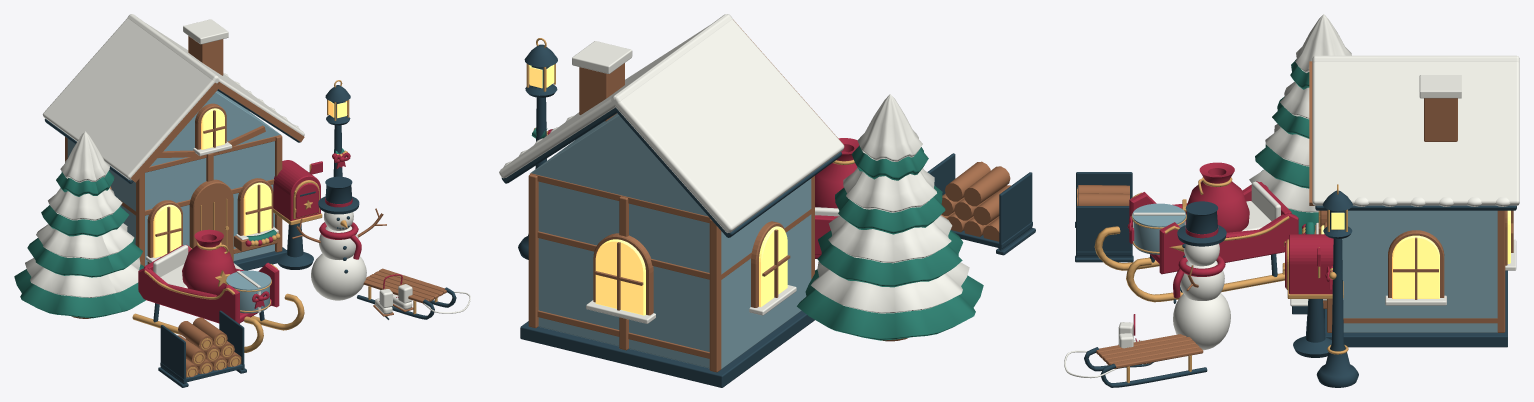
Rendered from storybook-christmas-market-sleigh-delivery-courtyard-3d9f5dd4__19749.glb.
The picture shows the model from 3 angles, left to right: view 1: azimuth 30°, elevation 25°; view 2: azimuth 150°, elevation 25°; view 3: azimuth 270°, elevation 25°; orthographic projection. The views are drawn at different scales.
Parts seen in each view (by area): view 1: 000-timber-chalet/2, 000-timber-chalet/3, 000-timber-chalet/1, 005-snow-laden-spruce/2, 005-snow-laden-spruce/1, 001-royal-delivery-sleigh/2, 004-storybook-snowman/0, 000-timber-chalet/5, 007-stacked-firewood-rack/0, 002-santa-toy-sack/0, 006-letters-to-santa-mailbox/2, 007-stacked-firewood-rack/1 (+13 smaller); view 2: 000-timber-chalet/1, 000-timber-chalet/2, 005-snow-laden-spruce/2, 005-snow-laden-spruce/1, 000-timber-chalet/3, 000-timber-chalet/0, 000-timber-chalet/5, 007-stacked-firewood-rack/1, 007-stacked-firewood-rack/0, 009-ribbon-lantern-post/0, 002-santa-toy-sack/0; view 3: 000-timber-chalet/2, 000-timber-chalet/1, 000-timber-chalet/3, 005-snow-laden-spruce/2, 004-storybook-snowman/0, 000-timber-chalet/0, 001-royal-delivery-sleigh/2, 007-stacked-firewood-rack/0, 009-ribbon-lantern-post/0, 000-timber-chalet/5, 005-snow-laden-spruce/1, 006-letters-to-santa-mailbox/2 (+12 smaller).
Part boxes in pixels (x1=…): 000-timber-chalet/2: x1=42, y1=14, x2=304, y2=270; 000-timber-chalet/3: x1=65, y1=36, x2=304, y2=266; 000-timber-chalet/1: x1=67, y1=90, x2=280, y2=265; 005-snow-laden-spruce/2: x1=25, y1=131, x2=140, y2=297; 005-snow-laden-spruce/1: x1=14, y1=171, x2=145, y2=318; 001-royal-delivery-sleigh/2: x1=138, y1=244, x2=279, y2=323; 004-storybook-snowman/0: x1=311, y1=212, x2=366, y2=300; 000-timber-chalet/5: x1=153, y1=108, x2=271, y2=257; 007-stacked-firewood-rack/0: x1=158, y1=310, x2=246, y2=387; 002-santa-toy-sack/0: x1=182, y1=229, x2=236, y2=294; 006-letters-to-santa-mailbox/2: x1=273, y1=160, x2=322, y2=220; 007-stacked-firewood-rack/1: x1=177, y1=317, x2=241, y2=377; 000-timber-chalet/1: x1=530, y1=113, x2=811, y2=369; 000-timber-chalet/2: x1=499, y1=14, x2=844, y2=323; 005-snow-laden-spruce/2: x1=811, y1=94, x2=969, y2=313; 005-snow-laden-spruce/1: x1=797, y1=145, x2=983, y2=340; 000-timber-chalet/3: x1=528, y1=19, x2=844, y2=372; 000-timber-chalet/0: x1=501, y1=107, x2=841, y2=387; 000-timber-chalet/5: x1=595, y1=226, x2=787, y2=315; 007-stacked-firewood-rack/1: x1=941, y1=161, x2=1010, y2=241; 007-stacked-firewood-rack/0: x1=927, y1=153, x2=1035, y2=255; 009-ribbon-lantern-post/0: x1=518, y1=44, x2=557, y2=259; 002-santa-toy-sack/0: x1=815, y1=138, x2=859, y2=208; 000-timber-chalet/2: x1=1290, y1=55, x2=1519, y2=306; 000-timber-chalet/1: x1=1342, y1=210, x2=1497, y2=332; 000-timber-chalet/3: x1=1309, y1=61, x2=1513, y2=332; 005-snow-laden-spruce/2: x1=1249, y1=14, x2=1351, y2=212; 004-storybook-snowman/0: x1=1173, y1=243, x2=1230, y2=350; 000-timber-chalet/0: x1=1292, y1=205, x2=1516, y2=347; 001-royal-delivery-sleigh/2: x1=1129, y1=181, x2=1298, y2=274; 007-stacked-firewood-rack/0: x1=1075, y1=172, x2=1133, y2=262; 009-ribbon-lantern-post/0: x1=1316, y1=190, x2=1358, y2=387; 000-timber-chalet/5: x1=1321, y1=210, x2=1510, y2=298; 005-snow-laden-spruce/1: x1=1255, y1=59, x2=1318, y2=234; 006-letters-to-santa-mailbox/2: x1=1285, y1=234, x2=1333, y2=294.
Bounding box in the file's own units: 6.86 × 3.85 × 6.44.
